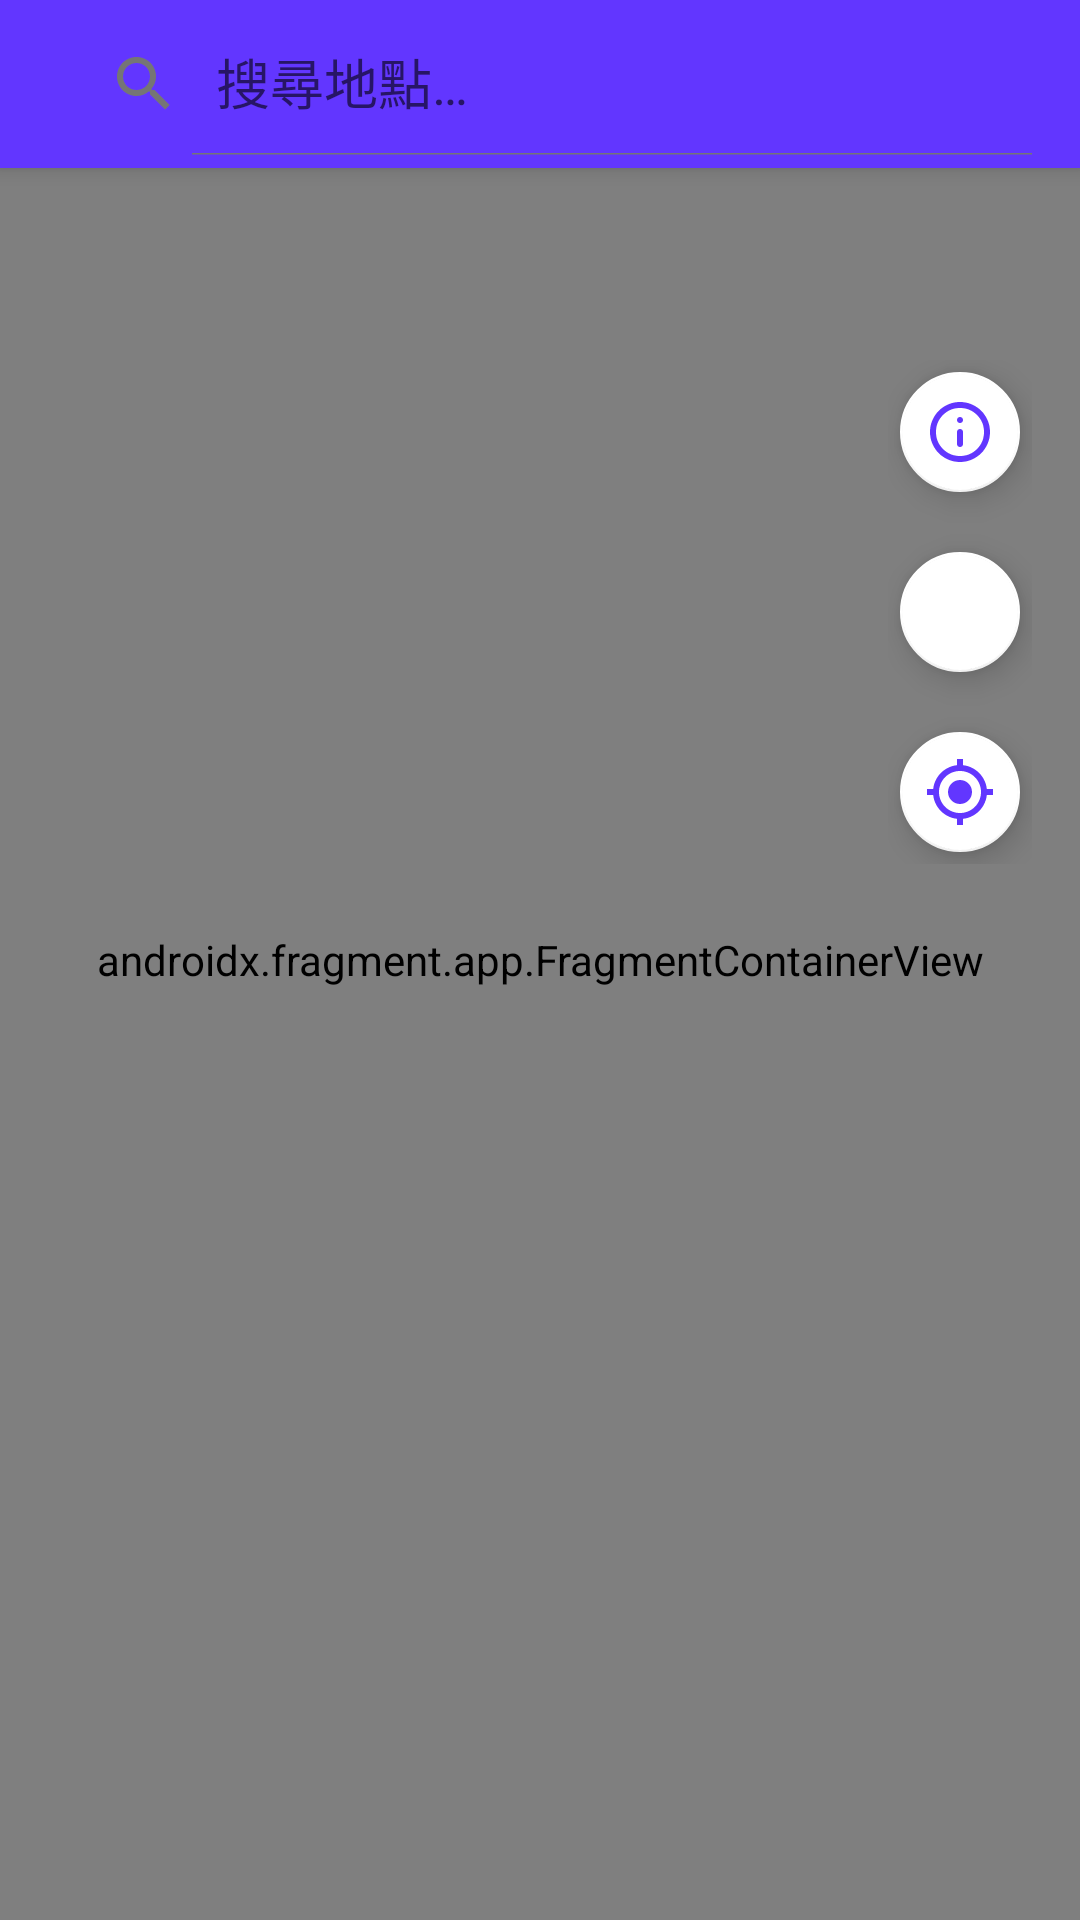

Icon click points for this 1080*1920 phone screenshot, format (x=x, y=y):
圖示說明: (x=960, y=432)
現在位置: (x=960, y=792)
